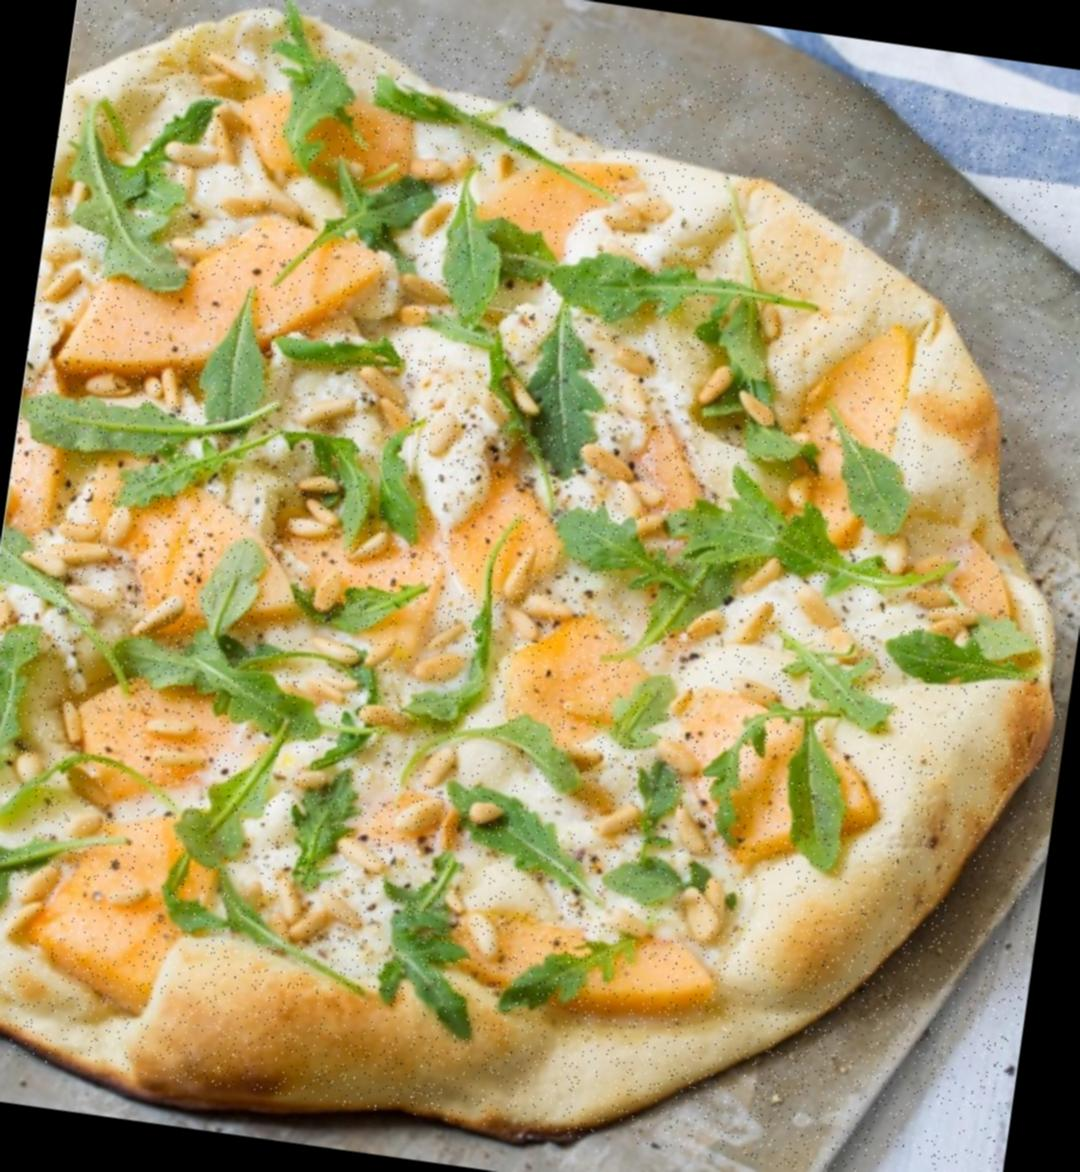Basil: (542, 440, 946, 698), (416, 691, 709, 986), (174, 758, 463, 1023), (37, 551, 389, 740), (403, 213, 634, 501), (225, 0, 472, 235), (29, 308, 301, 502), (550, 247, 813, 421), (53, 105, 238, 282), (814, 442, 938, 585)
Pizza: (0, 0, 1080, 1172)
